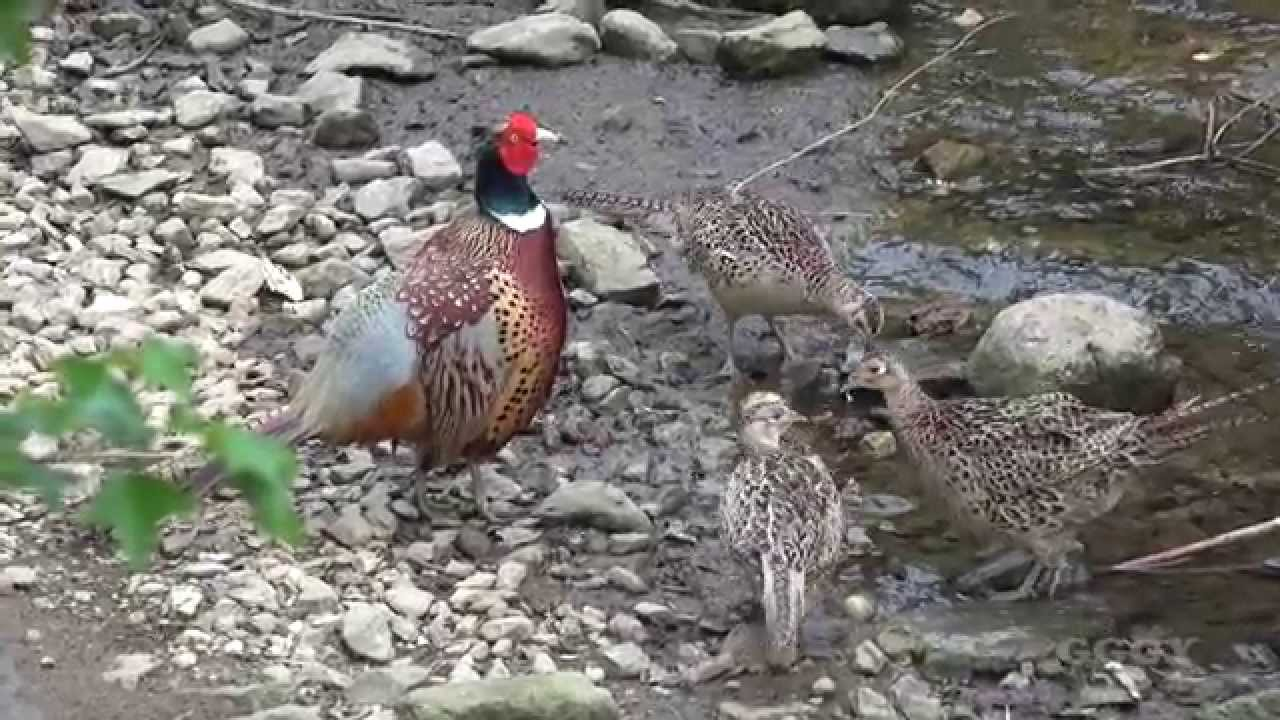pheasant: (300, 112, 570, 462), (842, 347, 1174, 580), (613, 182, 889, 349), (705, 386, 851, 657)
